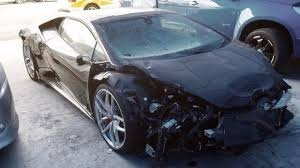Broken-glass: (141, 90, 202, 118)
Dent: (24, 29, 53, 87)
Smashed: (103, 68, 288, 151)
